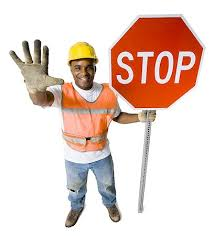stop sign: (111, 15, 202, 108)
